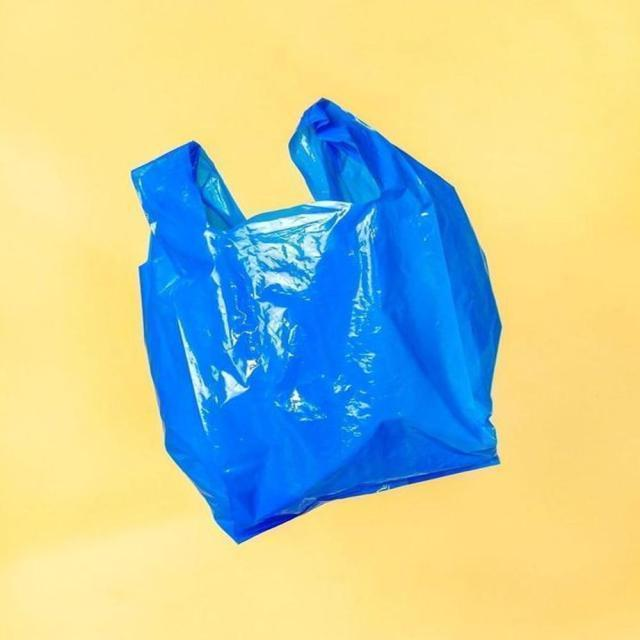Plastic_Bag: (132, 96, 493, 508)
